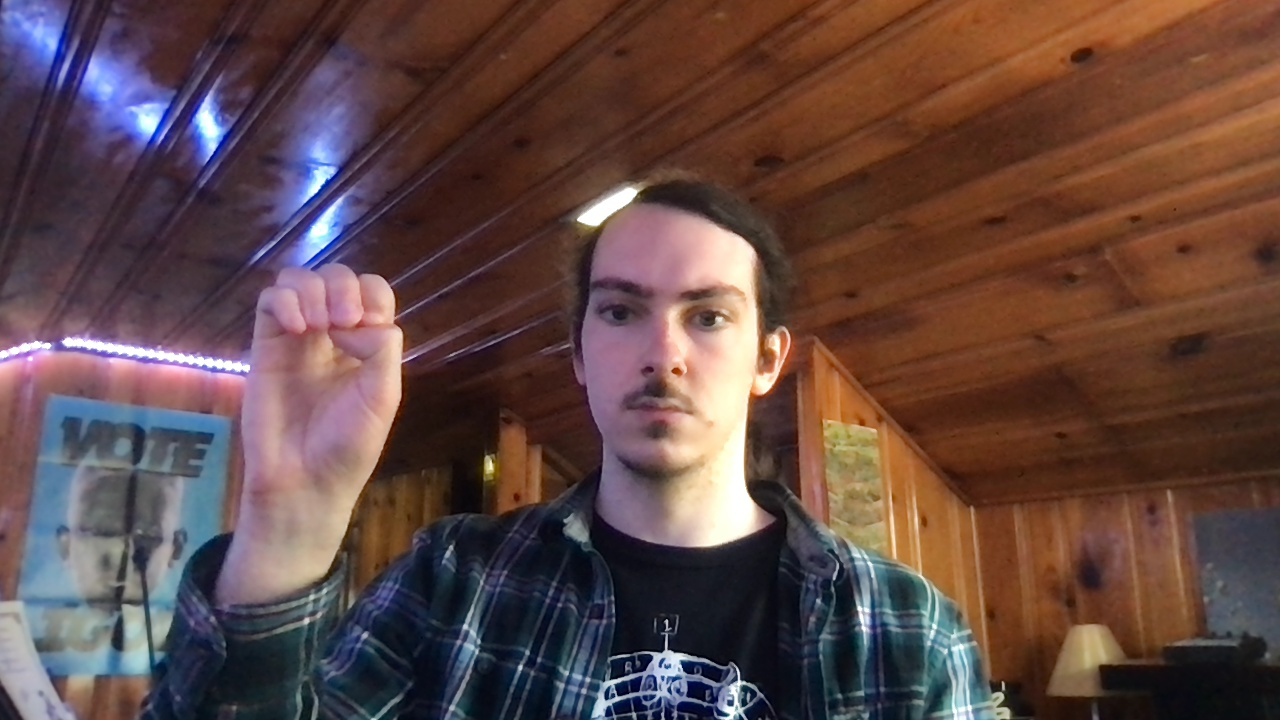e: (238, 259, 407, 494)
